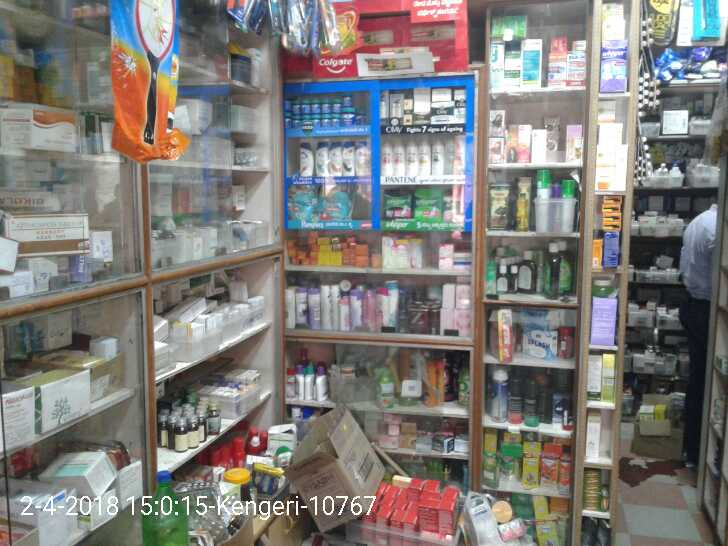vicks: (285, 94, 367, 127)
